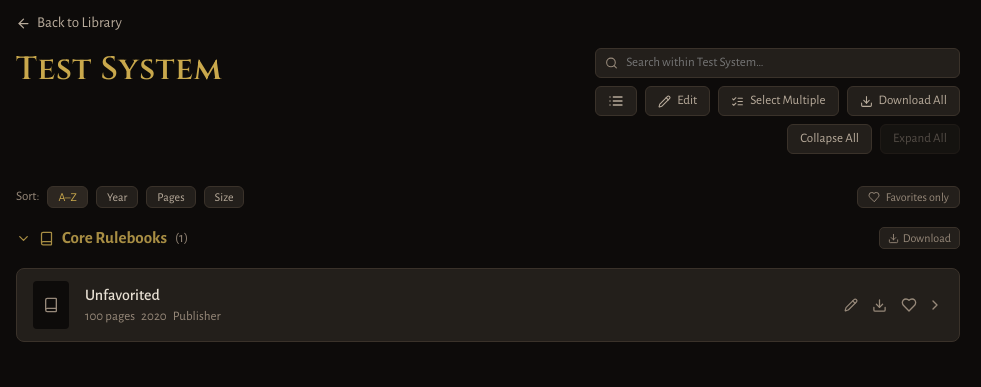
Test: SystemDetailView — subfolder grouping › favorites filter › shows no-favorites hint when filter active and nothing matches
Expected: the text "Unfavorited" is shown, [85,286,160,302]
Click the button "Favorites only": [908, 197] box [857,186,960,208]
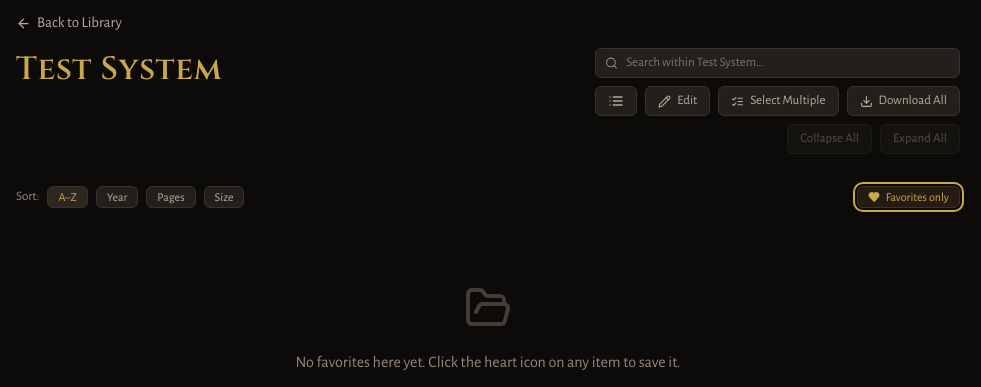
Expected: the button "Unfavorited" is gone
Expected: the text "No favorites here yet" is shown, [296,354,680,370]
